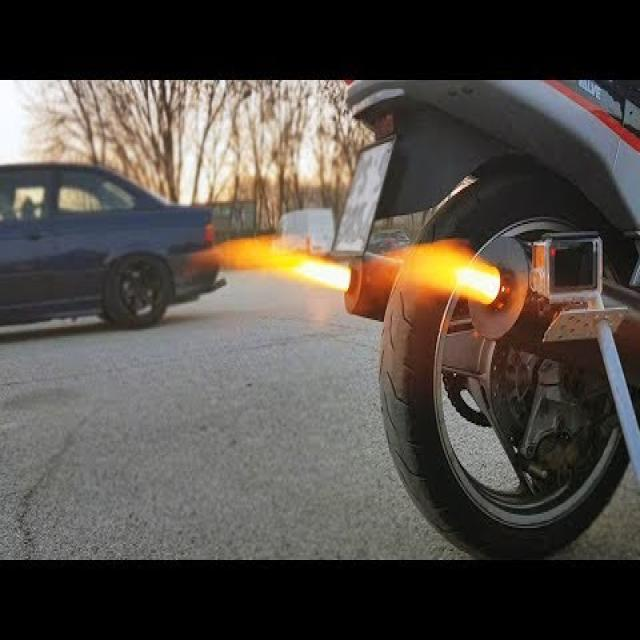fire: (192, 238, 351, 291), (386, 239, 502, 305)
